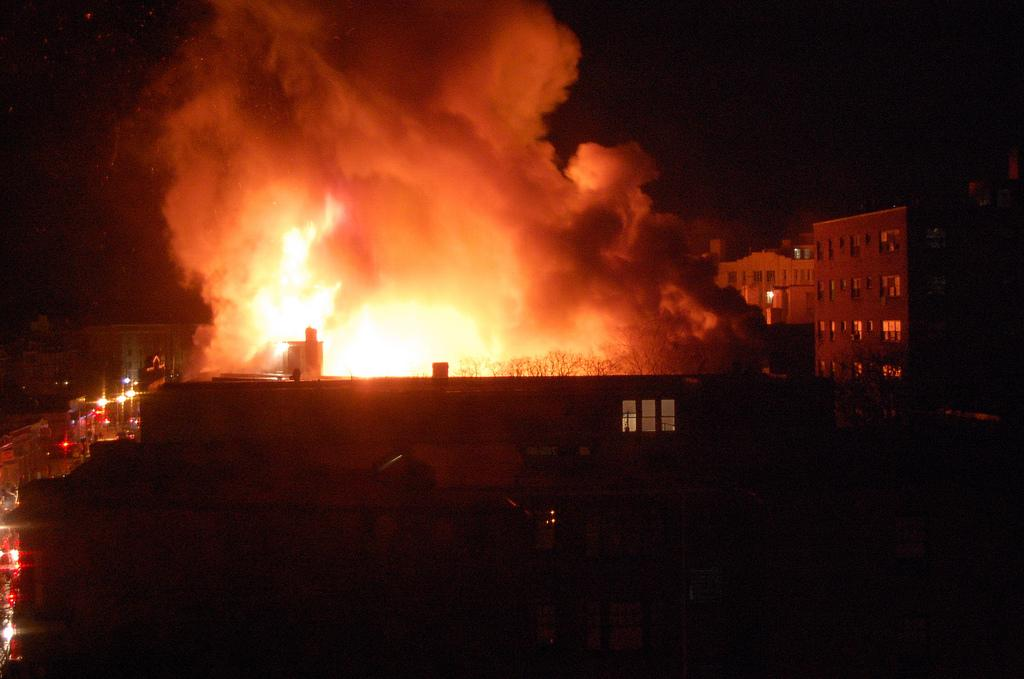fire: (252, 222, 333, 338), (328, 318, 427, 373)
